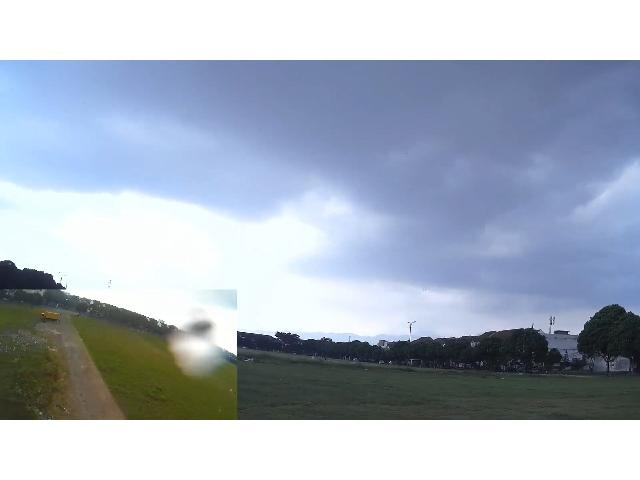Anti-Drone: (420, 284, 436, 296)
